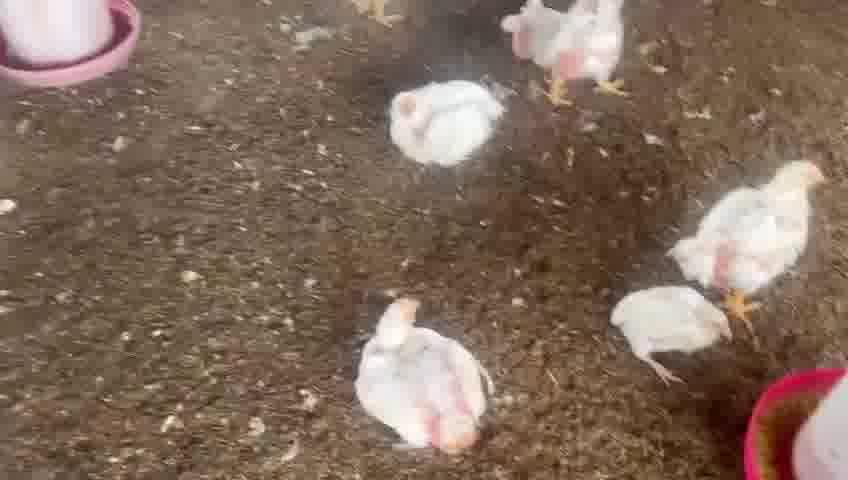AbNormal: (354, 297, 490, 448), (612, 286, 731, 379), (386, 81, 507, 166)
Normal: (672, 160, 822, 315), (499, 1, 636, 103)
